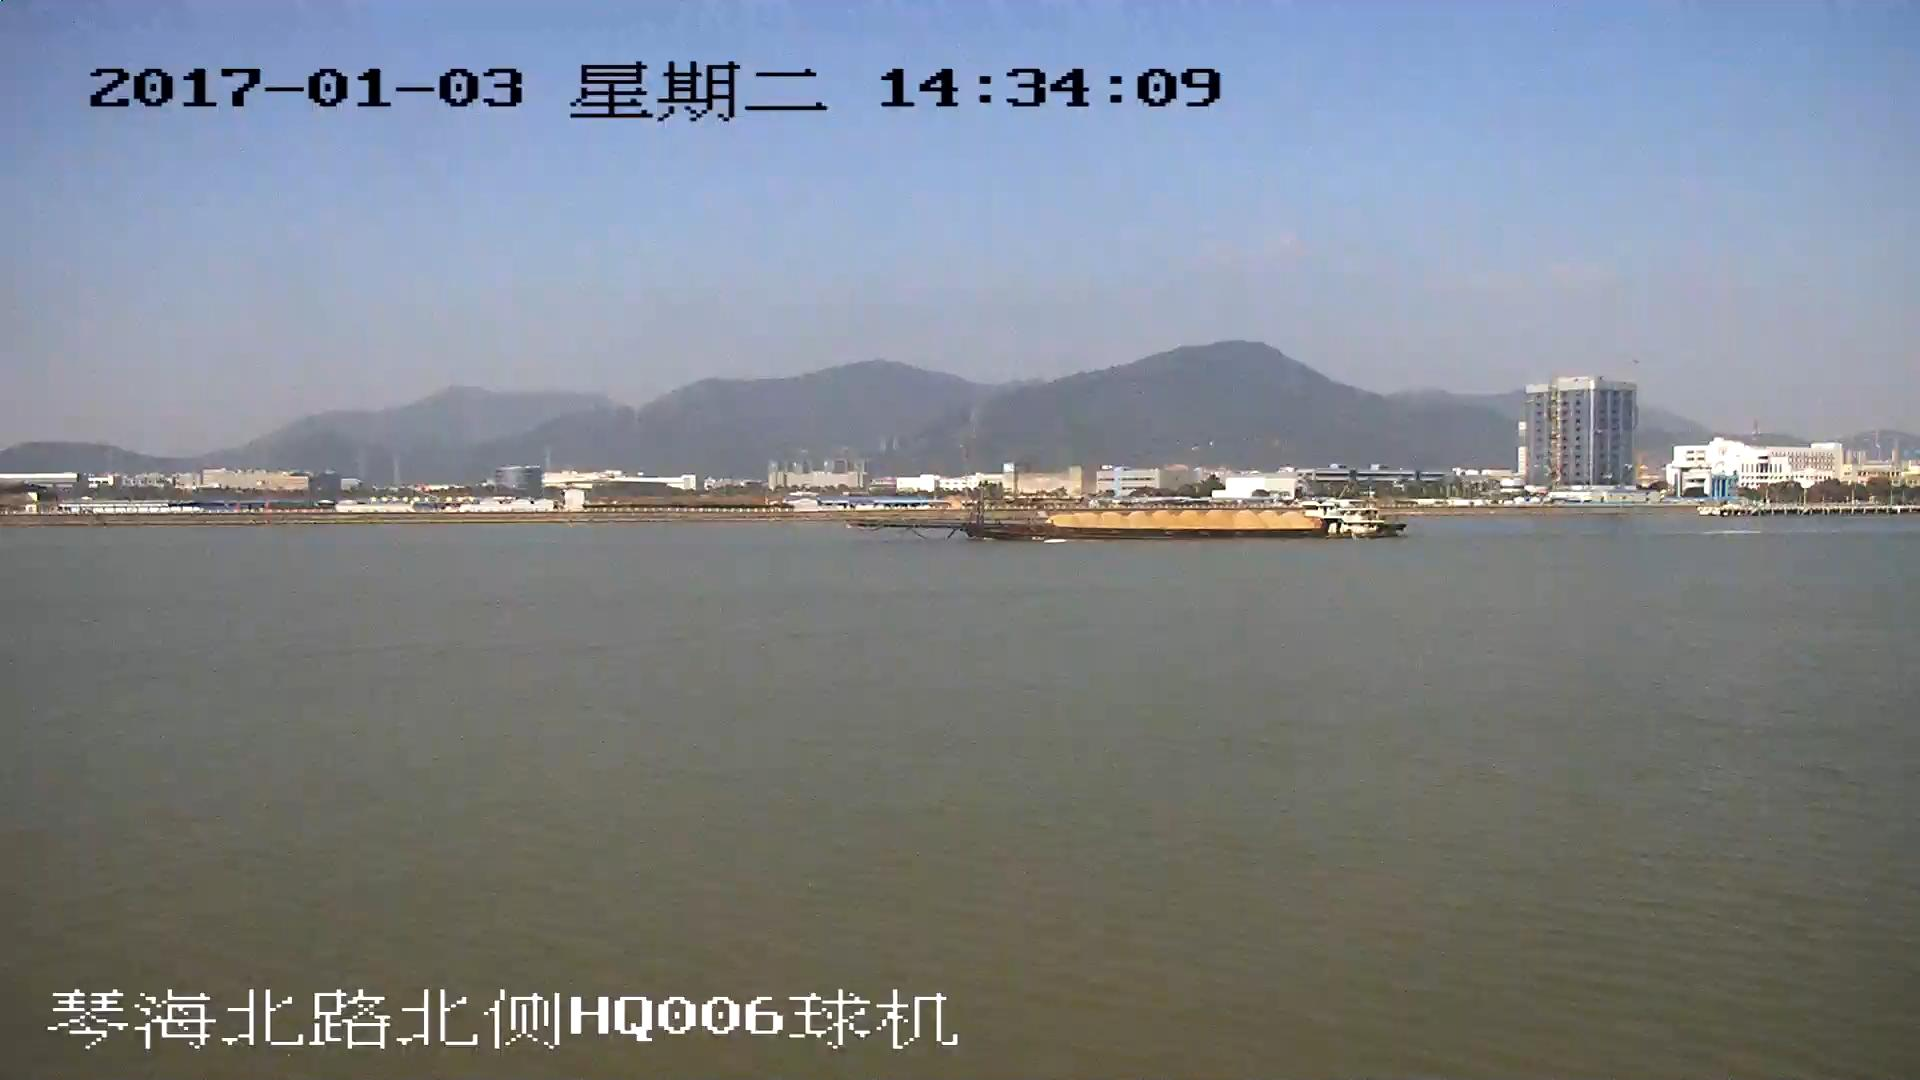ore carrier: (852, 489, 1402, 538)
